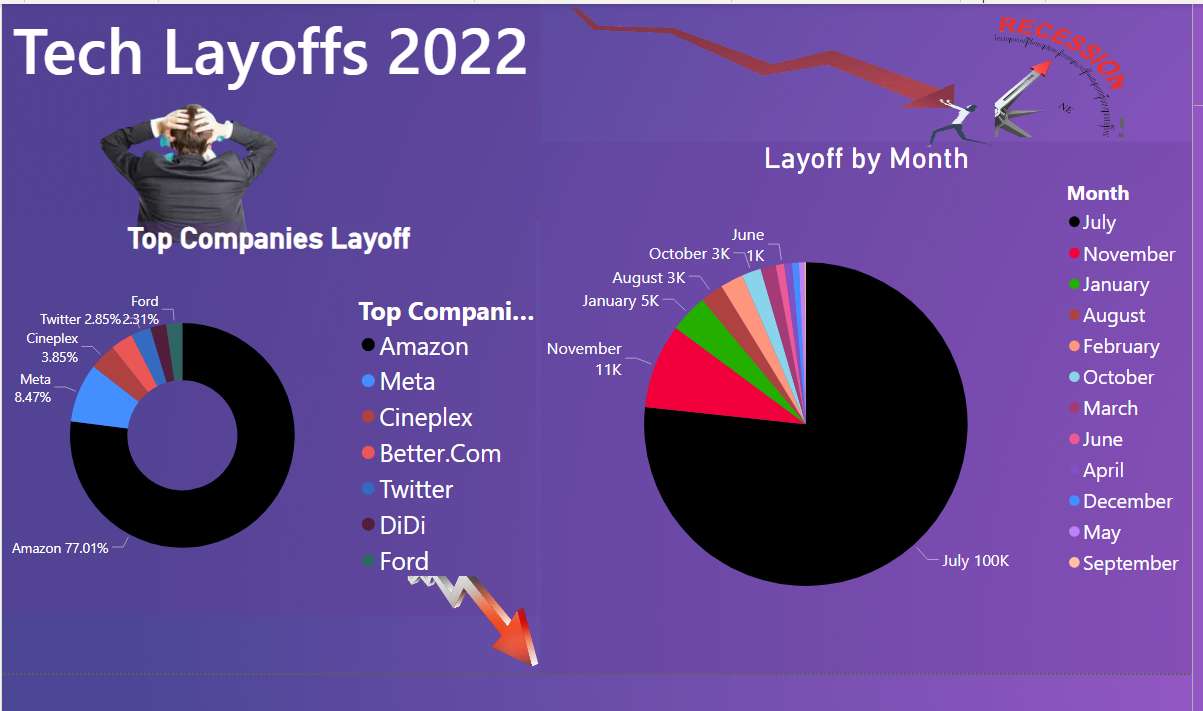

The dashboard page shown, as its layout file describes it:
{"tool":"powerbi","page":{"name":"Page 1","canvas":[1280,720],"ordinal":0},"visuals":[{"type":"image","box":[579.5,0,652.1,166.7],"z":1},{"type":"textbox","title":"Tech Layoffs 2022","box":[0,0,579.5,233.9],"z":2},{"type":"image","box":[0,0,389.9,301.2],"z":3},{"type":"donutChart","title":"Top Companies Layoff","fields":{"Y":["Sum(Tech_Layoffs_of_2022.Layoff)"],"Category":["Tech_Layoffs_of_2022.Company"]},"box":[0,233.9,574.1,424.9],"z":5},{"type":"pieChart","title":"Layoff by Month","fields":{"Y":["Max(Tech_Layoffs_of_2022.Layoff)"],"Category":["Tech_Layoffs_of_2022.Month"]},"box":[579.5,147.9,700.5,572.8],"z":6},{"type":"image","box":[410.1,610.4,247.4,110.3],"z":8},{"type":"image","box":[993.6,0,286.4,147.9],"z":9}]}

Visuals, with their boxes on the page's 1280x720 design canvas (x1, y1, x2, y2). These are canvas units, not pixel positions in the 1203x711 screenshot, which may show the page scaled, cropped or inside an application window:
image: bbox(580, 0, 1232, 167)
"Tech Layoffs 2022" textbox: bbox(0, 0, 580, 234)
image: bbox(0, 0, 390, 301)
"Top Companies Layoff" donutChart: bbox(0, 234, 574, 659)
"Layoff by Month" pieChart: bbox(580, 148, 1280, 721)
image: bbox(410, 610, 658, 721)
image: bbox(994, 0, 1280, 148)
